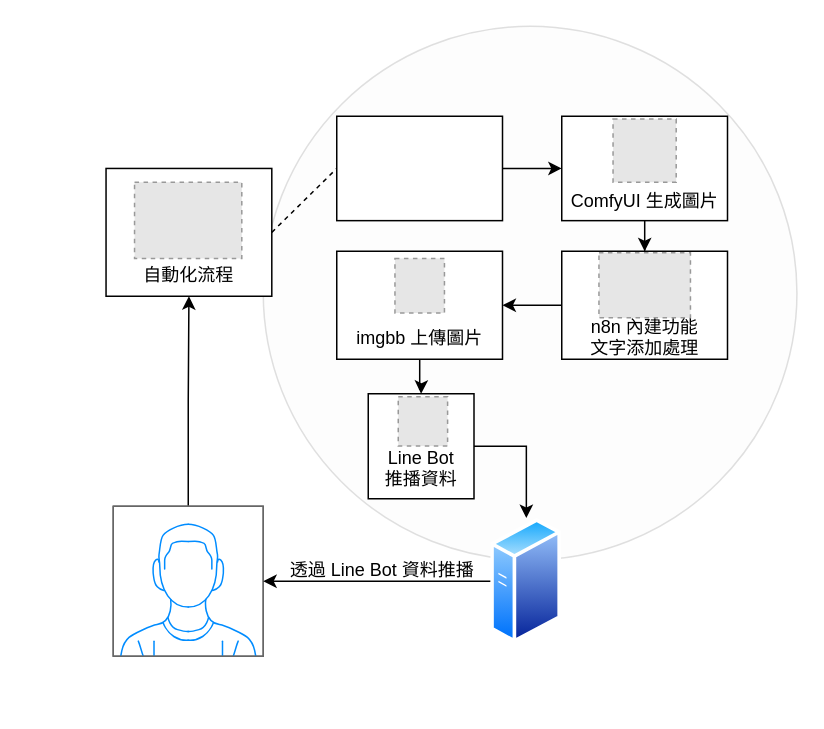
The diagram is 824 pixels wide and 729 high, and some of its shapes have lost their labels. Grey dashed boxes stand in for pictures. The centre of each missing label's shape, as x and y in pixels:
Webhook: [525,580]
準備圖片 動態參數: [418,168]
用戶發請請求 / 自動排程: [187,580]
